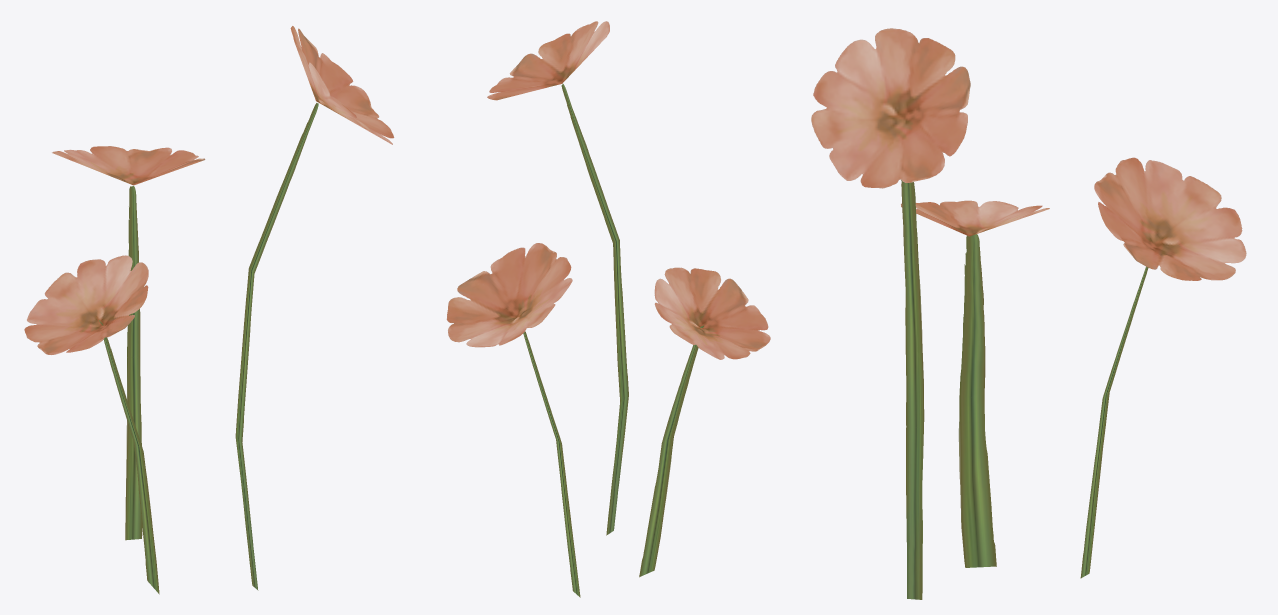
The model's file is SM_Ground_Soft_Pink_Flower_B.fbx.
3 renders of one model, left to right at view 1: azimuth 30°, elevation 25°; view 2: azimuth 150°, elevation 25°; view 3: azimuth 270°, elevation 25°, orthographic. The views are drawn at different scales.
Visible parts, largest first — view 1: SM_Ground_Soft_Pink_Flower_B; view 2: SM_Ground_Soft_Pink_Flower_B; view 3: SM_Ground_Soft_Pink_Flower_B.
Boxes of the visible parts, x1=… form: SM_Ground_Soft_Pink_Flower_B: x1=24, y1=26, x2=394, y2=594; SM_Ground_Soft_Pink_Flower_B: x1=446, y1=21, x2=770, y2=597; SM_Ground_Soft_Pink_Flower_B: x1=811, y1=28, x2=1246, y2=599.
Size of the model in its own units: 21.42 by 23.7 by 34.46.
1 material, 1 textured.
